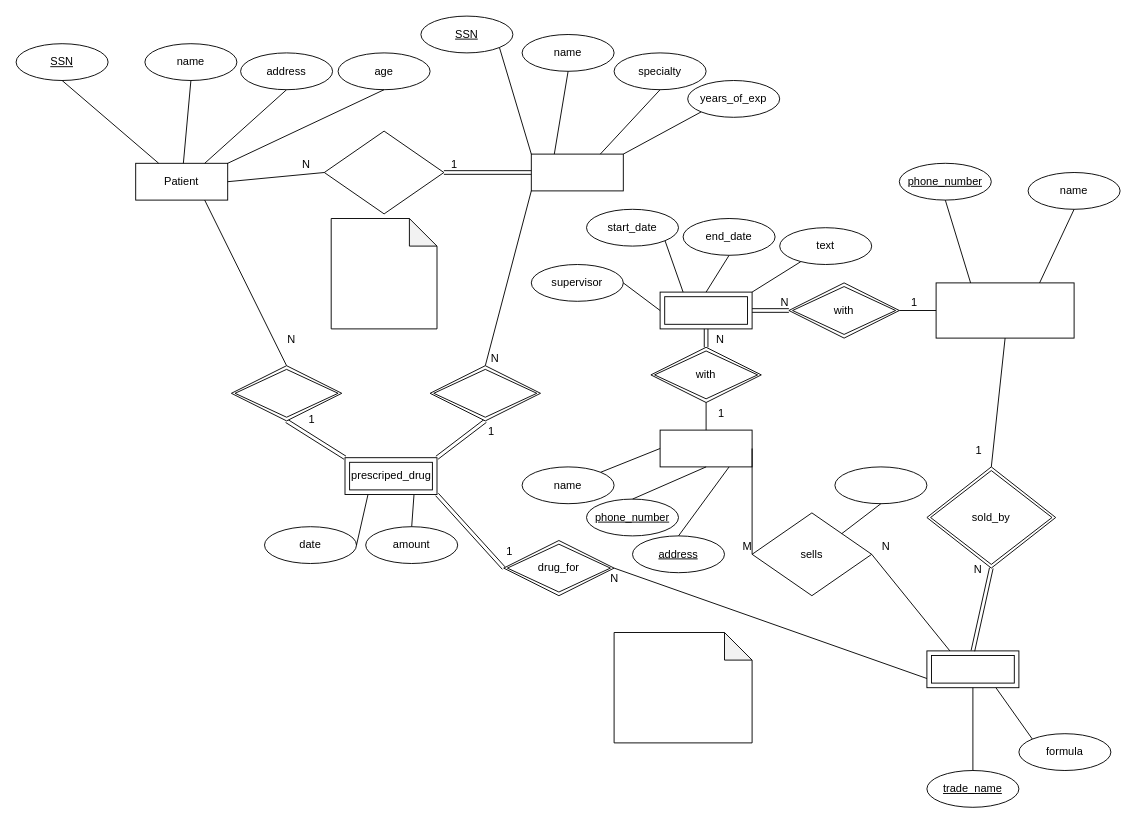
The diagram is 1136 pixels wide and 823 high, and some of its shapes have lost their labels. The shapes that lost their labels are listed below. From the top down, each one's box as (x1, y1, x2, y2) in pixels, then its label:
(323, 130, 444, 214): goes_to
(530, 153, 623, 191): Doctor
(330, 218, 437, 329): Kan være en doctor siger op, og så har en patient ikke en doctor i kort tid
(659, 291, 752, 329): contract
(935, 282, 1074, 338): pharmaceutical_company
(230, 365, 342, 421): getting
(429, 365, 540, 421): giving
(659, 429, 752, 467): pharmacy
(834, 466, 927, 504): price
(613, 632, 752, 743): Der kan kun ligge et apotek på en adresse, derved er det en key attribut
(926, 650, 1019, 688): drug
